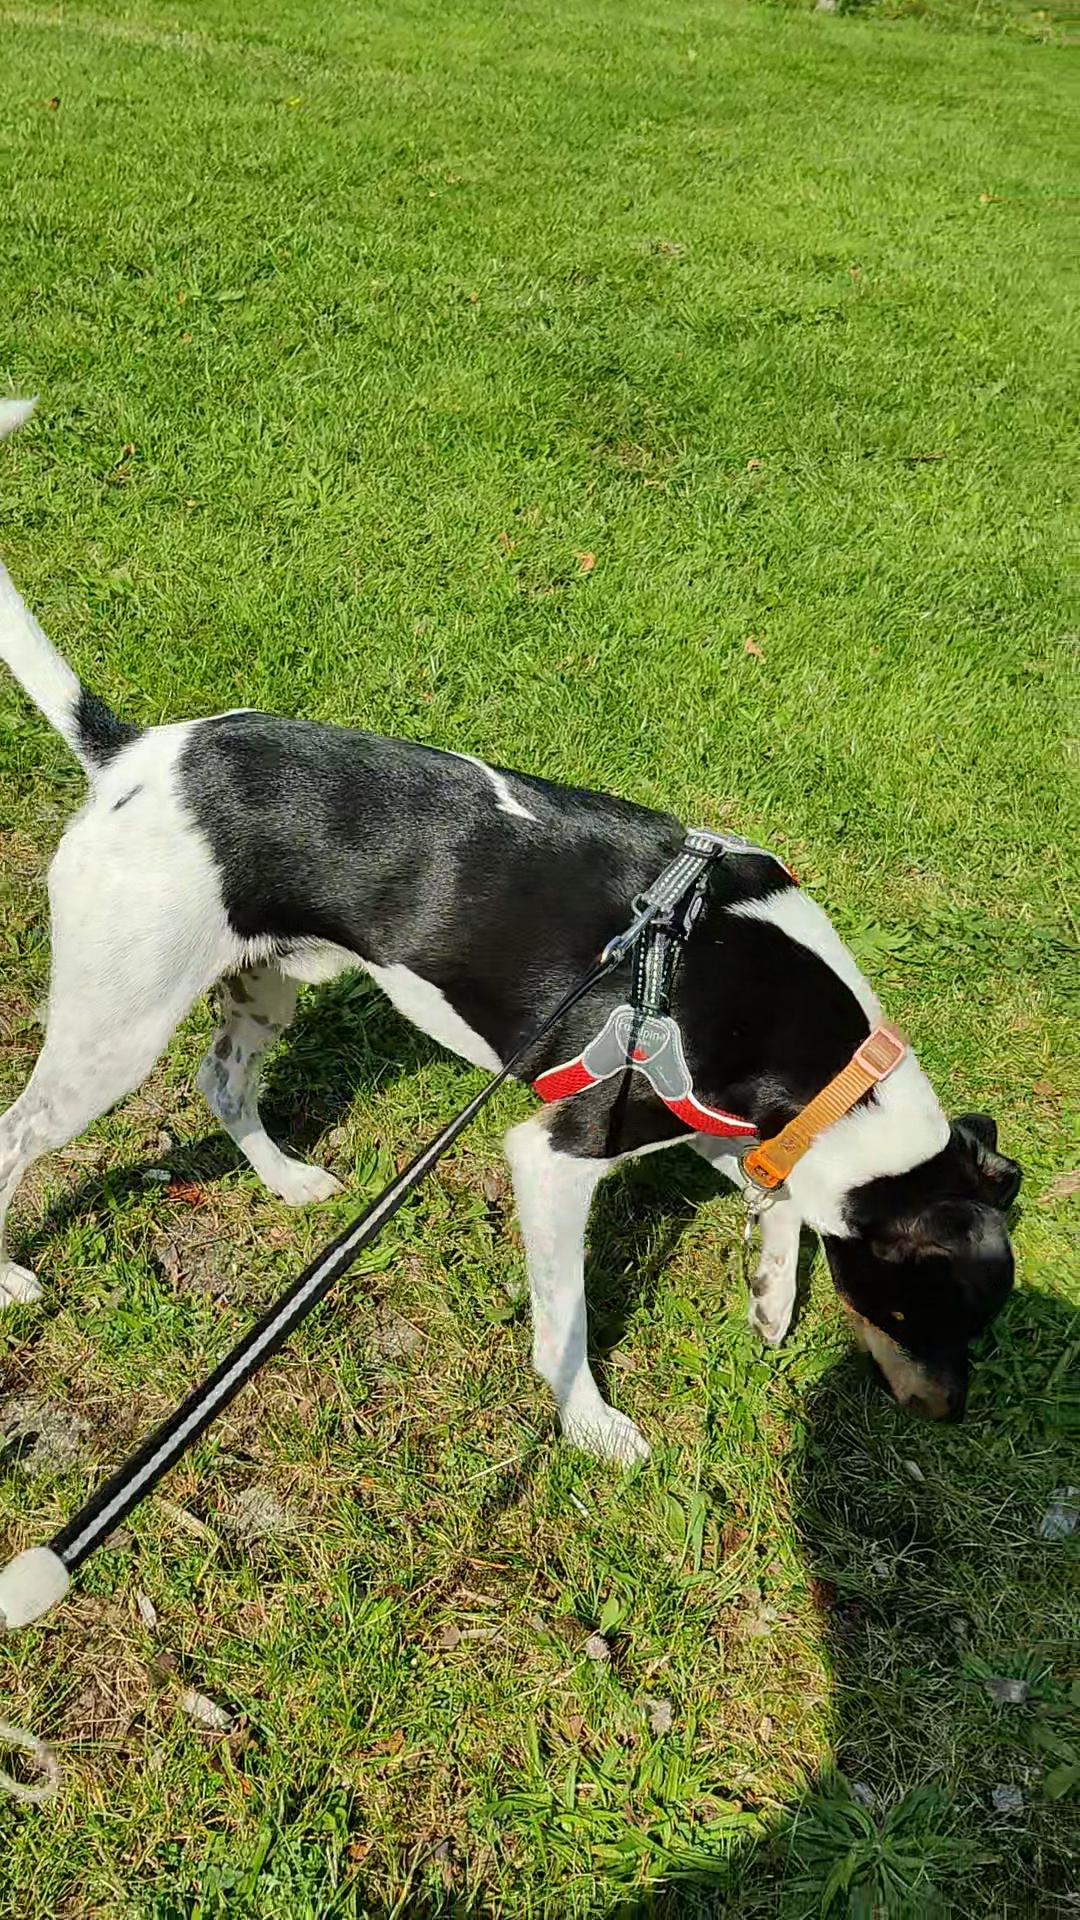Dog: (0, 373, 1029, 1491)
